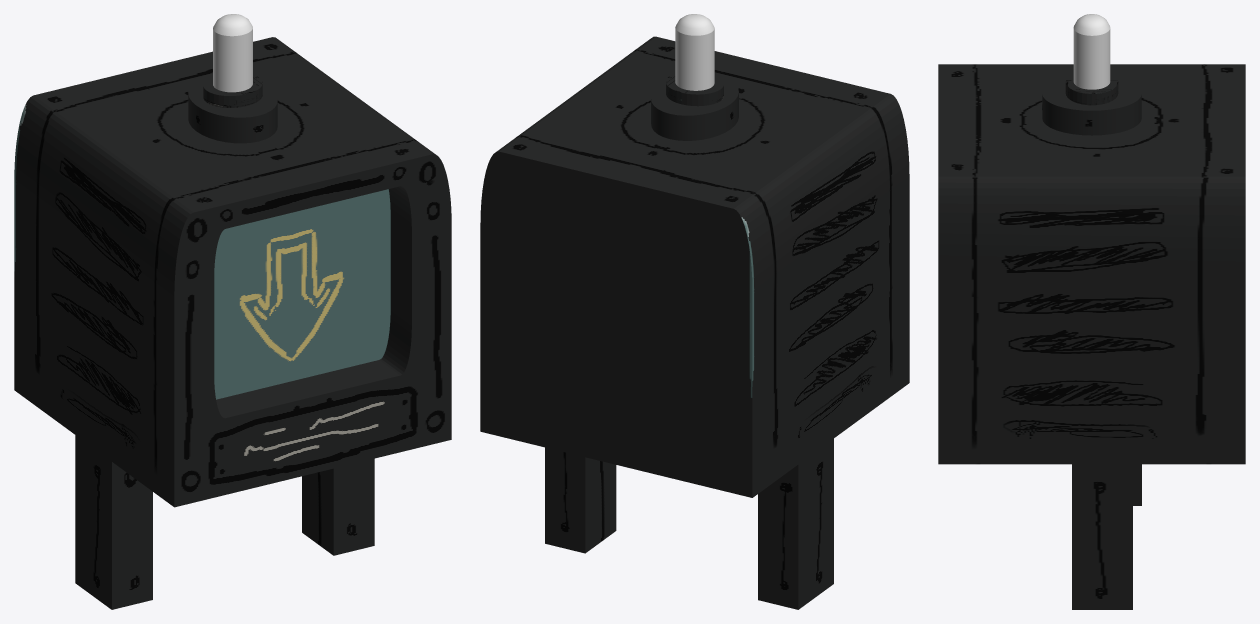
The model's file is 장애물.fbx.
3 views of the same model, side by side, from view 1: azimuth 30°, elevation 25°; view 2: azimuth 150°, elevation 25°; view 3: azimuth 270°, elevation 25° (orthographic). The views are drawn at different scales.
Parts seen in each view (by area): view 1: 실린더, 유리; view 2: 실린더, 유리; view 3: 실린더, 유리.
Part boxes in pixels (x1,y1,x2,y2): 실린더: (14,37,451,609); 유리: (213,14,252,92); 실린더: (480,36,909,609); 유리: (675,14,714,90); 실린더: (938,64,1245,609); 유리: (1073,14,1110,89).
Size of the model in its own units: 2 by 3.81 by 2.
Materials: 3 (1 with a texture image).
